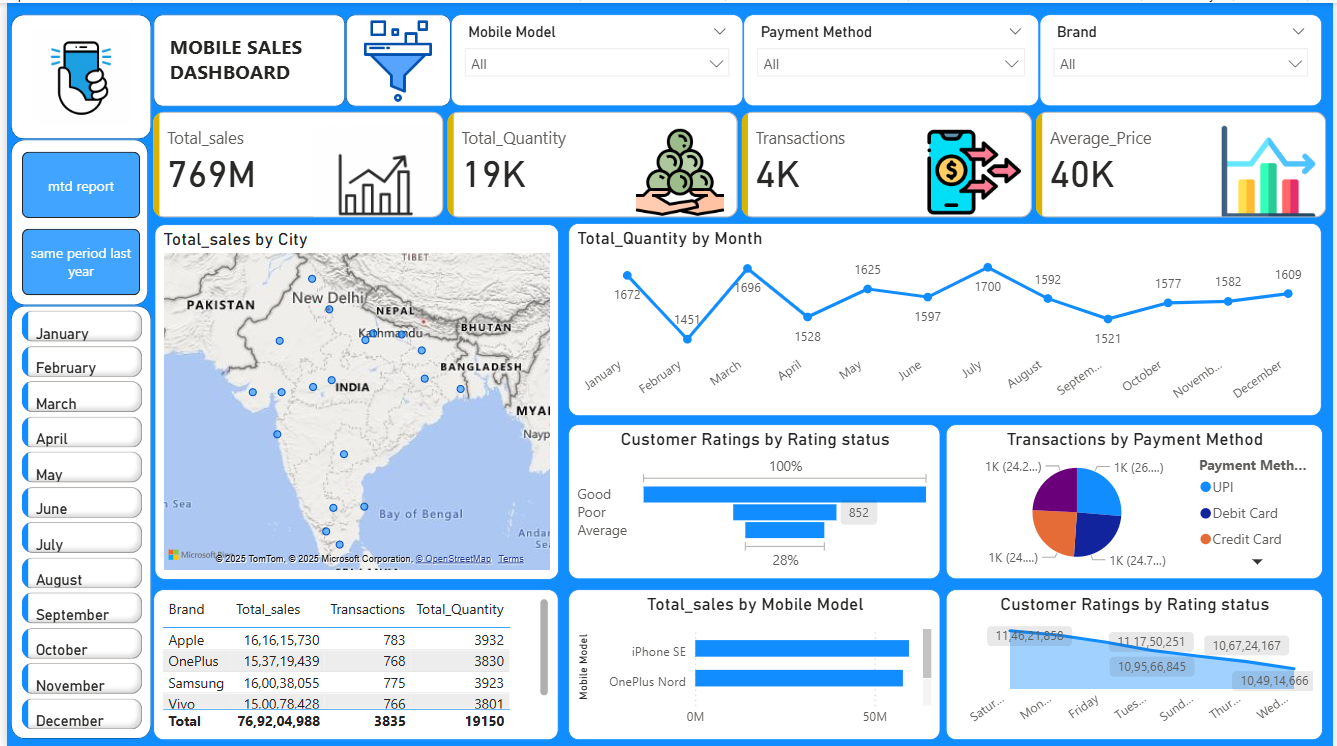

What the dashboard file says about the page in this screenshot:
{"tool":"powerbi","page":{"name":"Dashboard","canvas":[1280,720],"ordinal":0},"visuals":[{"type":"shape","box":[4.1,11,135.8,120.8],"z":0},{"type":"image","box":[20.5,18.1,103.8,106.2],"z":1000},{"type":"shape","box":[3.6,131.5,132.7,160.5],"z":2000},{"type":"shape","box":[4.1,292.3,135.8,418.5],"z":3000},{"type":"advancedSlicerVisual","fields":{"Values":["custom_calendar.Date.Variation.Date Hierarchy.Month"]},"box":[9.6,292.3,126.2,418.5],"z":4000},{"type":"cardVisual","fields":{"Data":["Mobile_sales_data.Total_sales","Mobile_sales_data.Total_Quantity","Mobile_sales_data.Transactions","Mobile_sales_data.Average_Price"]},"box":[135.8,100.2,1144.4,112.5],"z":5000},{"type":"slicer","fields":{"Values":["Mobile_sales_data.Mobile Model"]},"box":[428.1,11,282.7,89.2],"z":6000},{"type":"slicer","fields":{"Values":["Mobile_sales_data.Brand"]},"box":[996.2,11,273.1,89.2],"z":7000},{"type":"slicer","fields":{"Values":["Mobile_sales_data.Payment Method"]},"box":[710.8,11,285.4,89.2],"z":8000},{"type":"shape","box":[326.6,11,101.5,89.2],"z":9000},{"type":"image","box":[325.2,11,102.9,90.6],"z":10000},{"type":"shape","box":[141.3,11,185.2,89.2],"z":11000},{"type":"textbox","box":[152.3,24.7,152.3,64.5],"z":12000},{"type":"lineChart","fields":{"Y":["Mobile_sales_data.Total_Quantity"],"Category":["custom_calendar.Date.Variation.Date Hierarchy.Month"]},"box":[542,212.7,727.3,186.6],"z":13000},{"type":"funnel","title":" Customer Ratings by Rating status","fields":{"Y":["CountNonNull(Mobile_sales_data.Customer Ratings)"],"Category":["Mobile_sales_data.Rating status"]},"box":[542,406.2,359.5,149.6],"z":14000},{"type":"pieChart","fields":{"Y":["Mobile_sales_data.Transactions"],"Category":["Mobile_sales_data.Payment Method"]},"box":[905.7,406.2,363.6,149.6],"z":15000},{"type":"clusteredBarChart","fields":{"Y":["Mobile_sales_data.Total_sales"],"Category":["Mobile_sales_data.Mobile Model"]},"box":[542,565.4,359.5,145.5],"z":16000},{"type":"map","fields":{"Category":["Mobile_sales_data.City"]},"box":[141.9,214,390.7,343],"z":17000},{"type":"areaChart","title":" Customer Ratings by Rating status","fields":{"Category":["custom_calendar.Day Name"],"Y":["Mobile_sales_data.Total_sales"]},"box":[905.7,565.4,363.6,145.5],"z":18000},{"type":"tableEx","fields":{"Values":["Mobile_sales_data.Brand","Mobile_sales_data.Total_sales","Mobile_sales_data.Transactions","Mobile_sales_data.Total_Quantity"]},"box":[141.3,565.4,391.1,145.5],"z":19000},{"type":"pageNavigator","box":[14.5,143.6,114.6,139.9],"z":20000}]}

Visuals, with their boxes in screenshot pixels (x1, y1, x2, y2), scaled from the page's 1280x720 canvas onto the 1337x746 screenshot:
shape: {"x1": 4, "y1": 11, "x2": 146, "y2": 137}
image: {"x1": 21, "y1": 19, "x2": 130, "y2": 129}
shape: {"x1": 4, "y1": 136, "x2": 142, "y2": 303}
shape: {"x1": 4, "y1": 303, "x2": 146, "y2": 736}
advancedSlicerVisual - custom_calendar.Date.Variation.Date Hierarchy.Month: {"x1": 10, "y1": 303, "x2": 142, "y2": 736}
cardVisual - Mobile_sales_data.Total_sales x Mobile_sales_data.Total_Quantity: {"x1": 142, "y1": 104, "x2": 1336, "y2": 220}
slicer - Mobile_sales_data.Mobile Model: {"x1": 447, "y1": 11, "x2": 742, "y2": 104}
slicer - Mobile_sales_data.Brand: {"x1": 1041, "y1": 11, "x2": 1326, "y2": 104}
slicer - Mobile_sales_data.Payment Method: {"x1": 742, "y1": 11, "x2": 1041, "y2": 104}
shape: {"x1": 341, "y1": 11, "x2": 447, "y2": 104}
image: {"x1": 340, "y1": 11, "x2": 447, "y2": 105}
shape: {"x1": 148, "y1": 11, "x2": 341, "y2": 104}
textbox: {"x1": 159, "y1": 26, "x2": 318, "y2": 92}
lineChart - Mobile_sales_data.Total_Quantity x custom_calendar.Date.Variation.Date Hierarchy.Month: {"x1": 566, "y1": 220, "x2": 1326, "y2": 414}
" Customer Ratings by Rating status" funnel: {"x1": 566, "y1": 421, "x2": 942, "y2": 576}
pieChart - Mobile_sales_data.Transactions x Mobile_sales_data.Payment Method: {"x1": 946, "y1": 421, "x2": 1326, "y2": 576}
clusteredBarChart - Mobile_sales_data.Total_sales x Mobile_sales_data.Mobile Model: {"x1": 566, "y1": 586, "x2": 942, "y2": 737}
map - Mobile_sales_data.City: {"x1": 148, "y1": 222, "x2": 556, "y2": 577}
" Customer Ratings by Rating status" areaChart: {"x1": 946, "y1": 586, "x2": 1326, "y2": 737}
tableEx - Mobile_sales_data.Brand x Mobile_sales_data.Total_sales: {"x1": 148, "y1": 586, "x2": 556, "y2": 737}
pageNavigator: {"x1": 15, "y1": 149, "x2": 135, "y2": 294}
